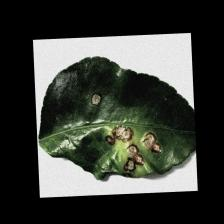canker: (81, 87, 168, 181)
